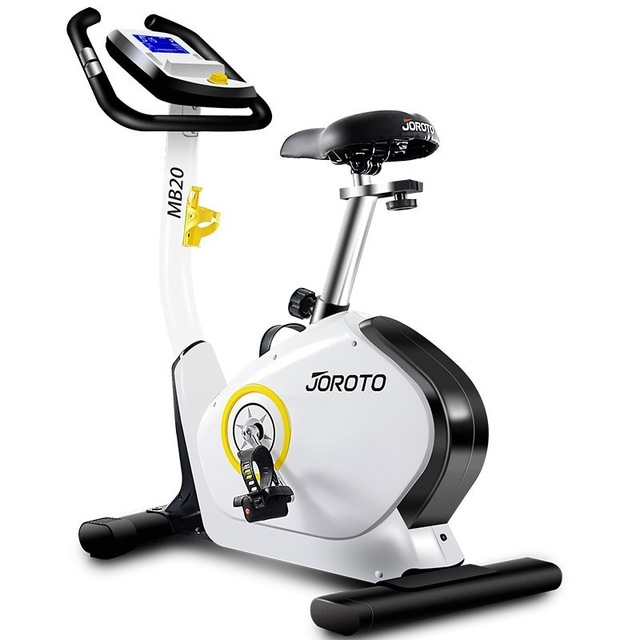gym_bike: (60, 3, 566, 626)
